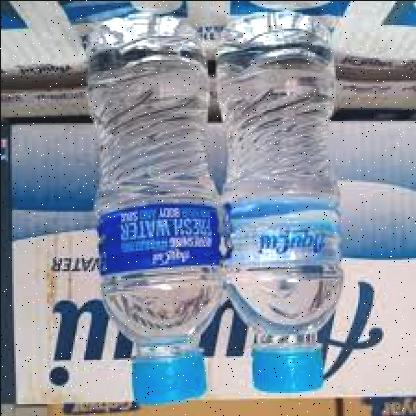Plastic Bottle: (84, 41, 228, 404), (216, 32, 344, 393)
